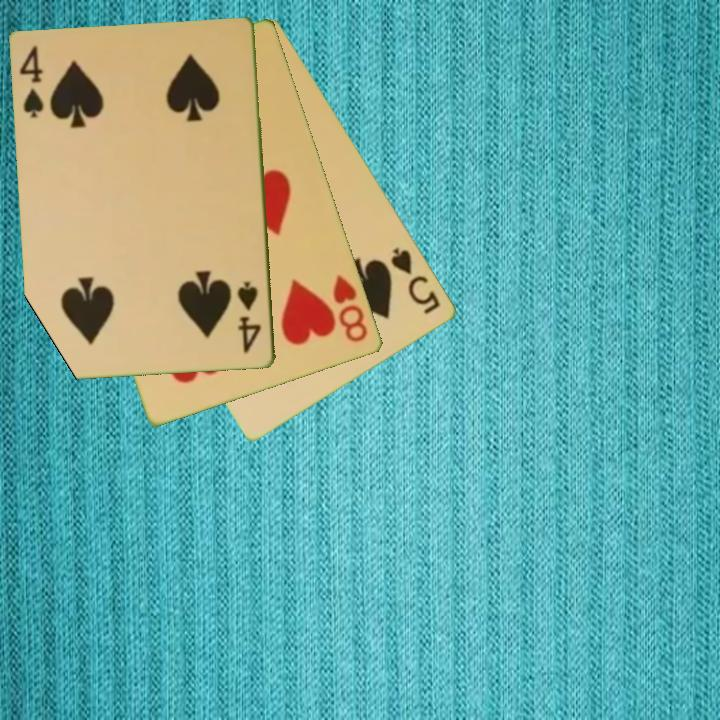4s: (234, 278, 265, 357), (16, 43, 47, 121)
5s: (387, 244, 444, 318)
8h: (329, 271, 371, 345)
